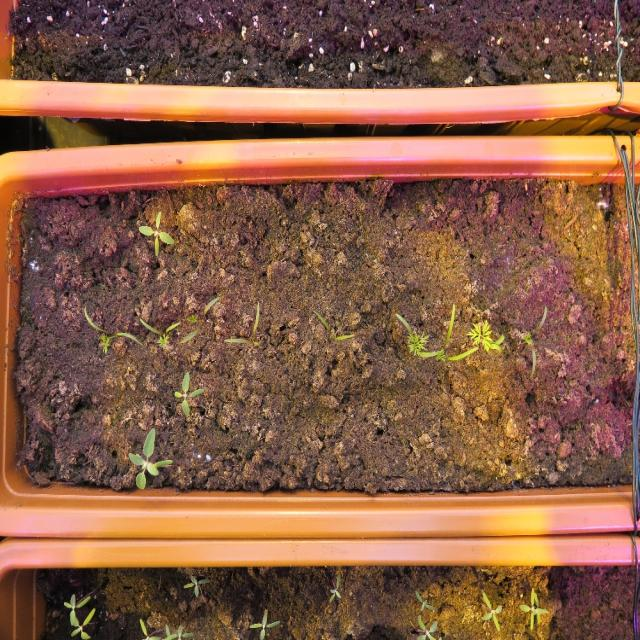weed: (137, 210, 175, 256), (172, 370, 206, 418), (479, 589, 502, 632), (182, 574, 210, 598), (414, 588, 435, 612), (328, 571, 341, 605)
